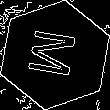M_E: (25, 28, 85, 82)
